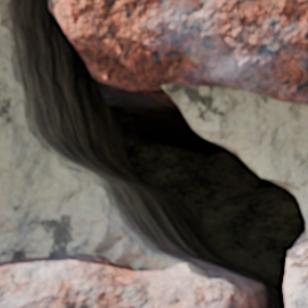brick: (50, 0, 307, 104)
broken_brick: (0, 254, 231, 307), (288, 239, 307, 307)
crack: (0, 0, 307, 307)
